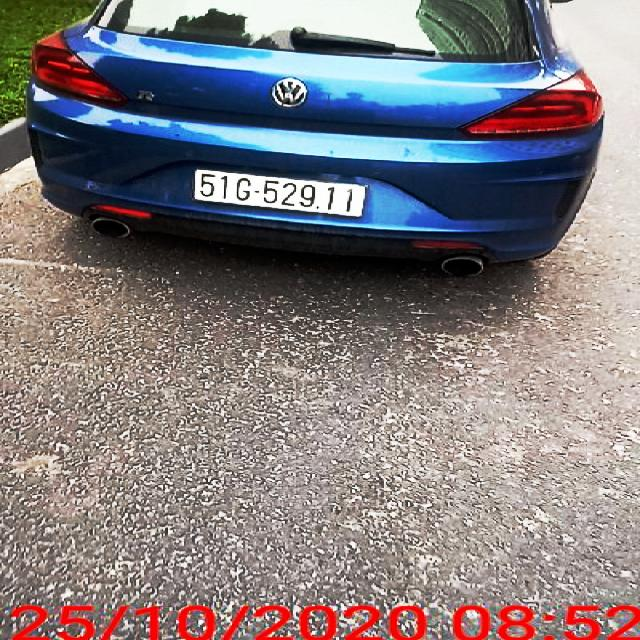license_plate: (193, 168, 369, 219)
